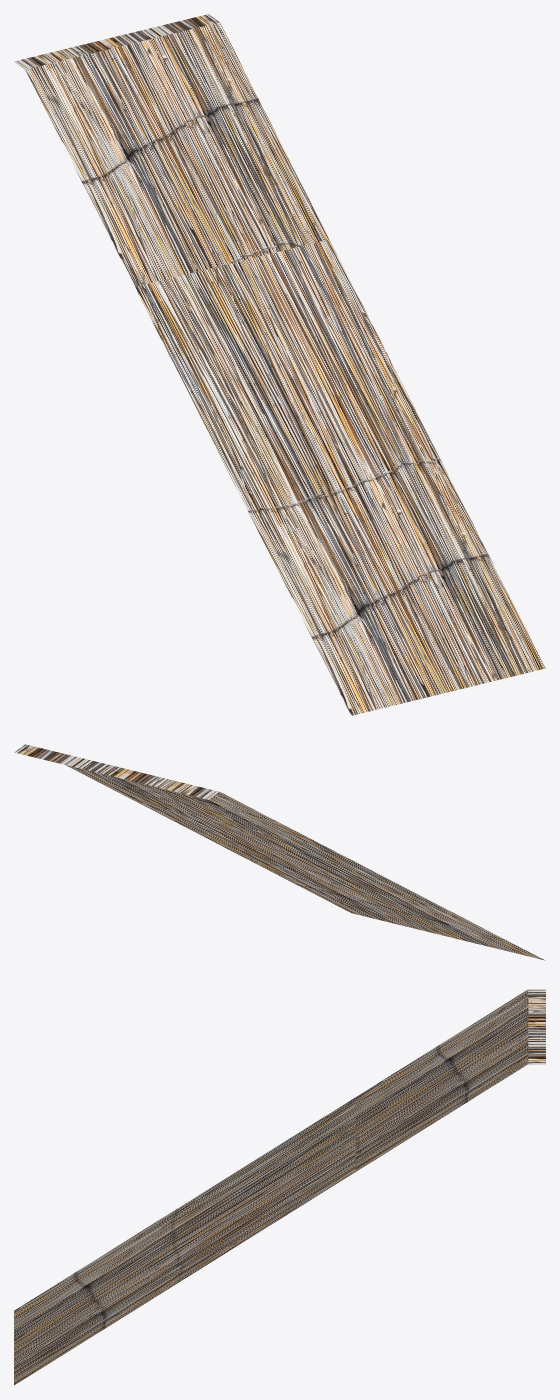
The model's file is WhareRoof.fbx.
3 renders of one model, top to bottom at view 1: azimuth 30°, elevation 25°; view 2: azimuth 150°, elevation 25°; view 3: azimuth 270°, elevation 25°, orthographic. The views are drawn at different scales.
Parts seen in each view (by area): view 1: Roof.001; view 2: Roof.001; view 3: Roof.001.
Boxes of the visible parts, <box> form: Roof.001: <box>14,14,545,715</box>; Roof.001: <box>14,744,545,960</box>; Roof.001: <box>14,989,545,1385</box>.
Bounding box in the file's own units: 100 × 200 × 300.
